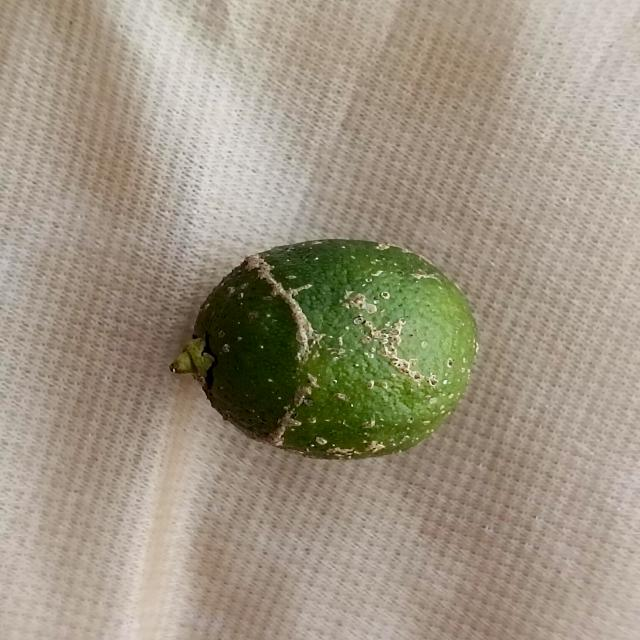scab: (185, 227, 502, 468)
